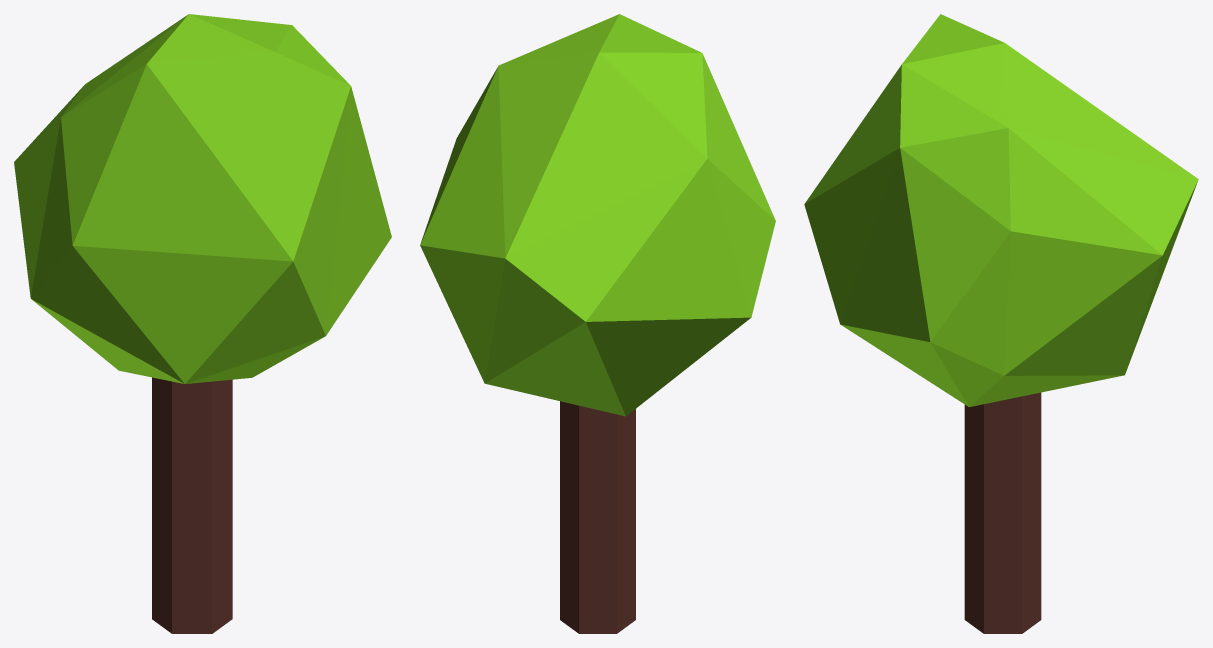
Rendered from tree1.fbx.
The picture shows the model from 3 angles, left to right: view 1: azimuth 30°, elevation 25°; view 2: azimuth 150°, elevation 25°; view 3: azimuth 270°, elevation 25°; orthographic projection. The views are drawn at different scales.
Visible parts, largest first — view 1: Tree; view 2: Tree; view 3: Tree.
Part boxes in pixels (left/top/right/bottom): Tree: left=14, top=14, right=391, bottom=633; Tree: left=420, top=14, right=775, bottom=633; Tree: left=804, top=14, right=1198, bottom=633.
Size of the model in its own units: 65.6 by 117 by 72.66.
